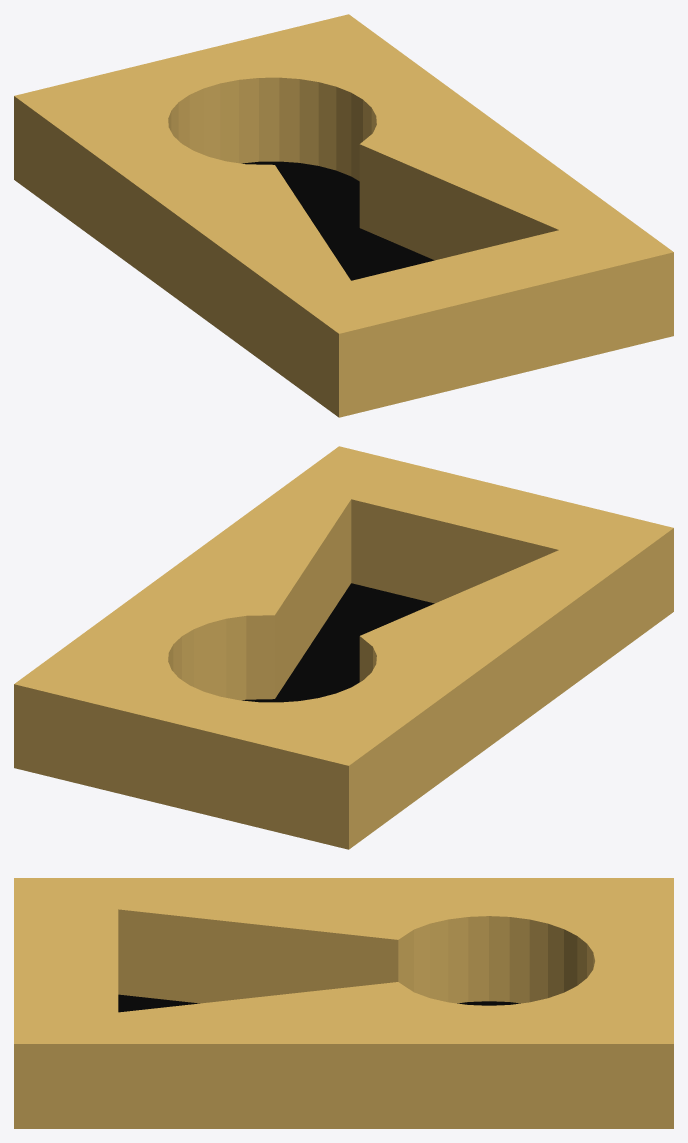
File: keyhole.fbx
3 renders of one model, top to bottom at view 1: azimuth 30°, elevation 25°; view 2: azimuth 150°, elevation 25°; view 3: azimuth 270°, elevation 25°, orthographic.
Parts seen in each view (by area): view 1: Keyhole; view 2: Keyhole; view 3: Keyhole.
Boxes of the visible parts, x1,y1,x2,y2 form: Keyhole: [14, 14, 673, 417]; Keyhole: [14, 446, 673, 849]; Keyhole: [14, 878, 673, 1128].
Bounding box in the file's own units: 10.59 × 2.53 × 17.81.
